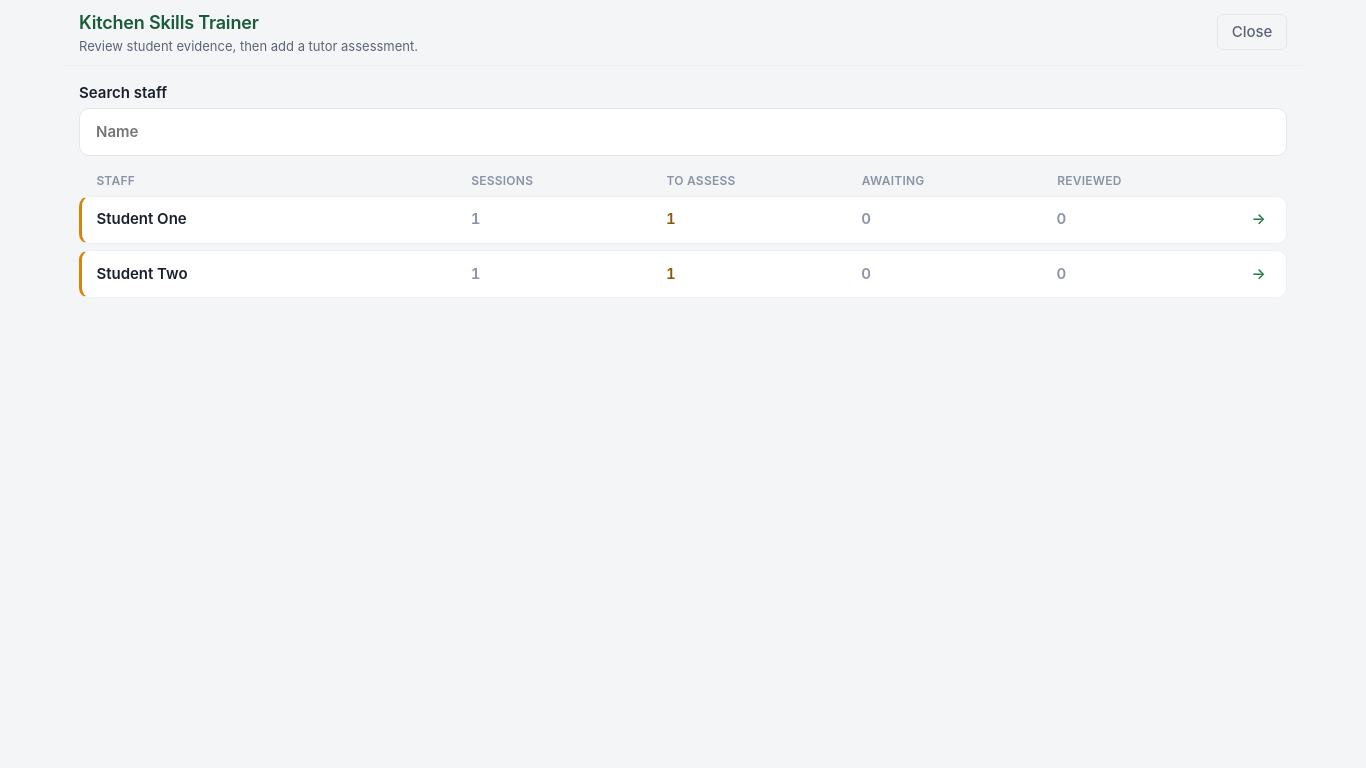
Test: Kitchen Day student and chef dashboards › lets the chef open one student session grouped by participant and sessionId
Check: the link with test id "kitchen-day-tutor-staff-user-2" is shown, box [79, 250, 1287, 298]
Check: the element with test id "kitchen-day-tutor-page" is shown, box [63, 0, 1303, 330]
Click the link with test id "kitchen-day-tutor-staff-user-1" at coordinates (683, 220), box [79, 196, 1287, 244]
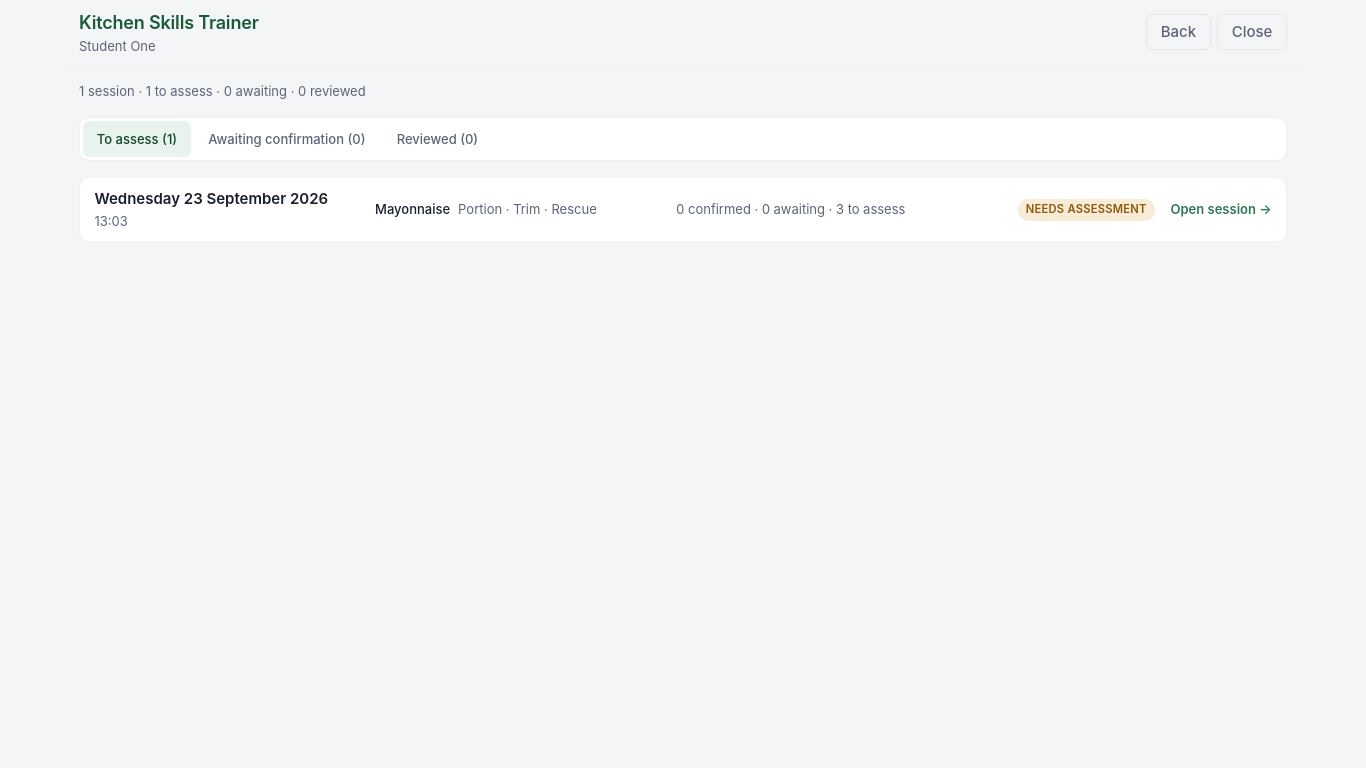
Click the link that starts with "Wednesday 23 September 2026" at coordinates (683, 210), box [79, 177, 1287, 242]
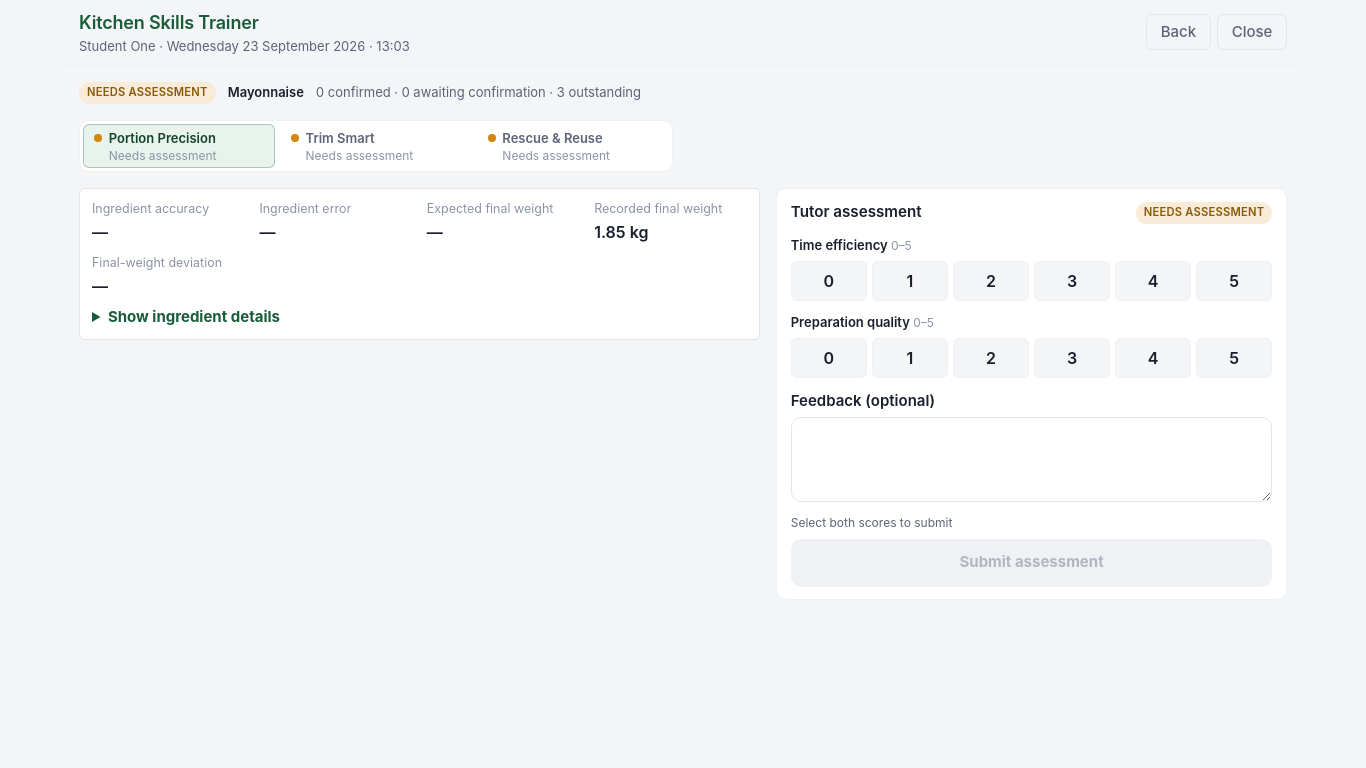
Check: the element with test id "kitchen-day-chef-selected" is shown, box [79, 82, 1287, 600]
Check: the list item with test id "kitchen-day-chef-portion-mayonnaise" is shown, box [79, 188, 760, 340]
Click the tab with test id "kitchen-day-tutor-module-tab-trimSmart" at coordinates (376, 146), box [280, 124, 472, 168]
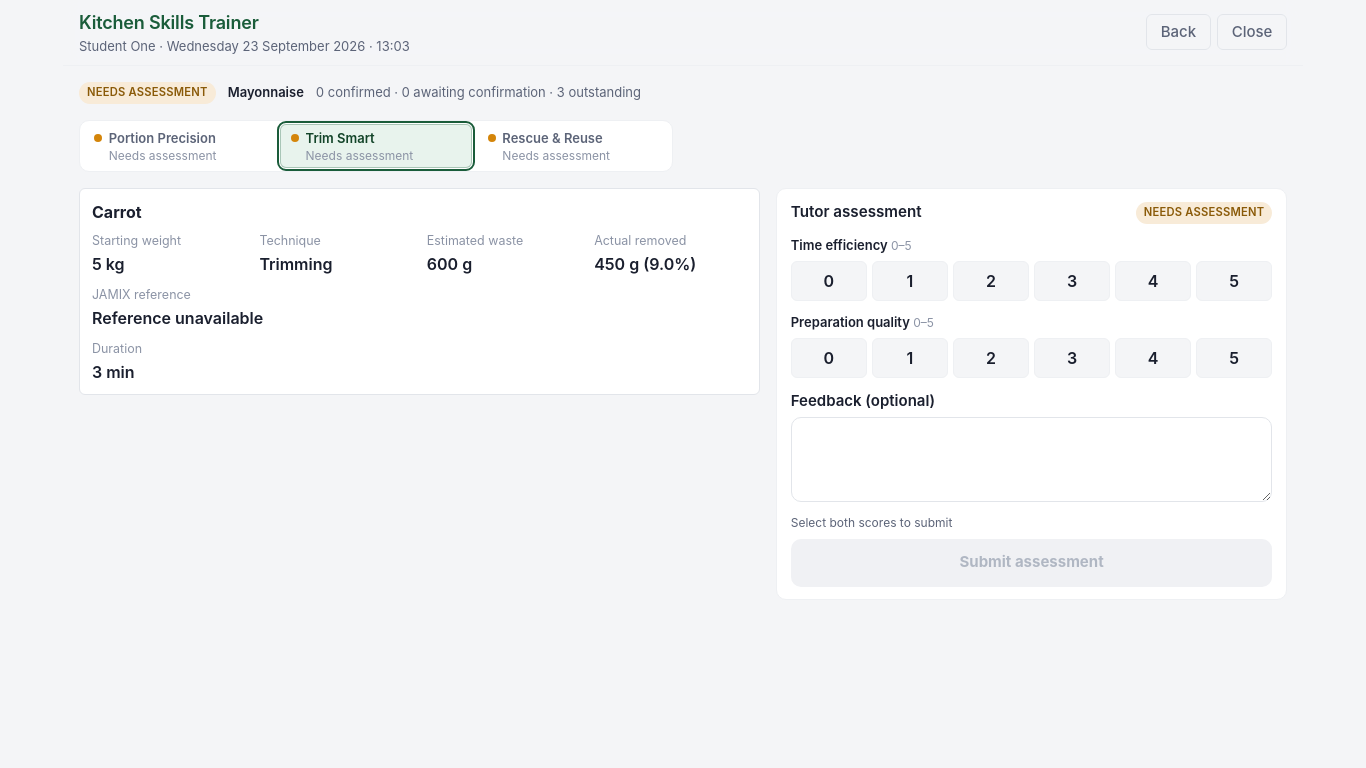
Check: the list item with test id "kitchen-day-chef-trim-carrot" is shown, box [79, 188, 760, 395]
Click the tab with test id "kitchen-day-tutor-module-tab-rescueAndReuse" at coordinates (573, 146), box [477, 124, 669, 168]
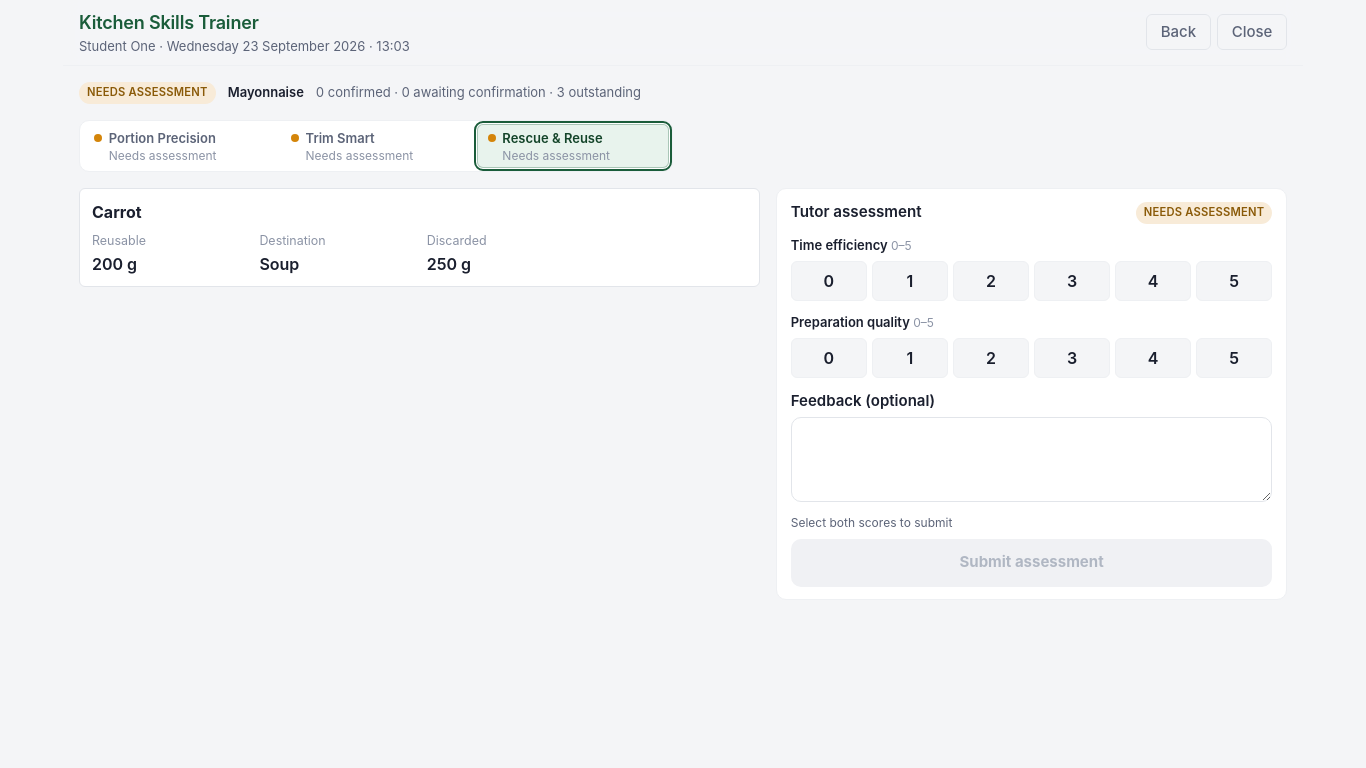
Check: the list item with test id "kitchen-day-chef-rescue-carrot" is shown, box [79, 188, 760, 287]
